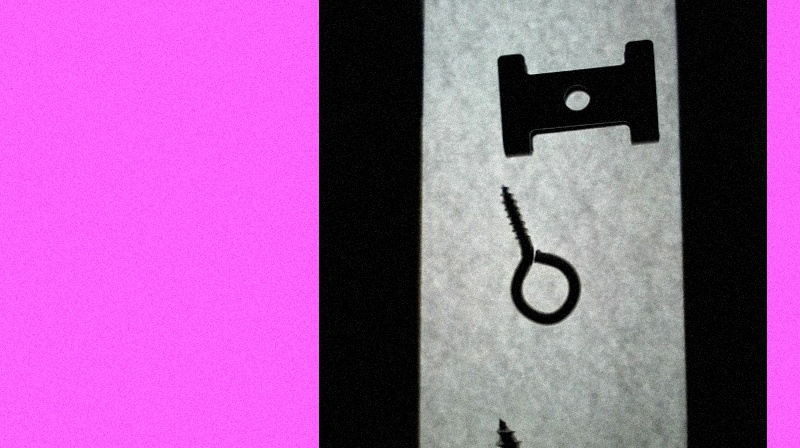O001: (495, 182, 581, 330)
O002: (489, 34, 660, 159)
S001: (490, 414, 580, 447)
